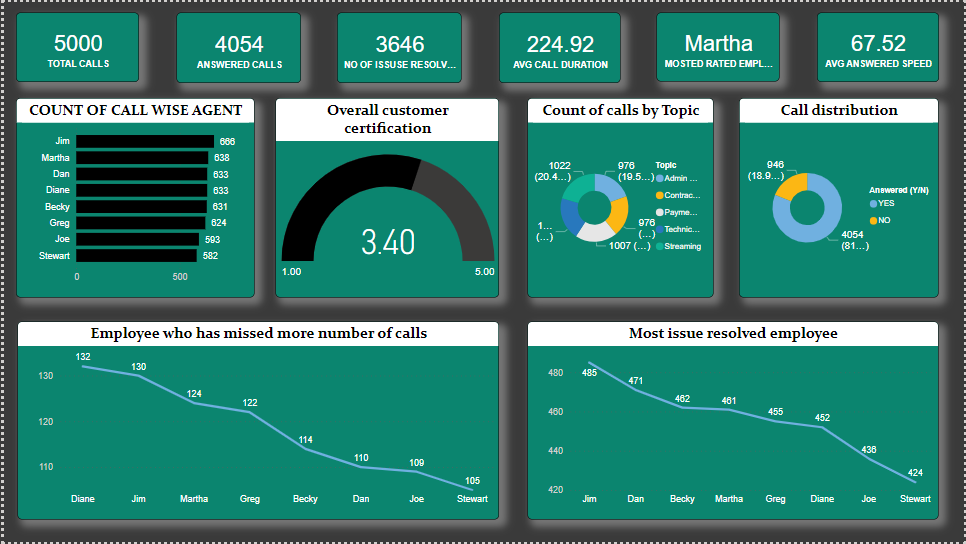

Layout of this report page (visuals, bound fields, positions):
{"tool":"powerbi","page":{"name":"Page 1","canvas":[1280,720],"ordinal":0},"visuals":[{"type":"card","fields":{"Values":["Call center data.Call Id"]},"box":[15.8,14,164.2,92.5],"z":0},{"type":"card","fields":{"Values":["Call center data.Answered (Y/N)"]},"box":[229.1,14,166,94],"z":1000},{"type":"card","fields":{"Values":["Call center data.Resolved"]},"box":[444.3,14,166,94],"z":2000},{"type":"card","fields":{"Values":["Call center data.Speed of answer in seconds"]},"box":[1083.7,14,162.3,92.8],"z":3000},{"type":"gauge","title":"Overall customer certification","fields":{"Y":["Call center data.Satisfaction rating"],"MinValue":["Call center data.Satisfaction rating"],"MaxValue":["Call center data.Satisfaction rating"]},"box":[362,128,298,266],"z":4000},{"type":"card","fields":{"Values":["Call center data.Custom"]},"box":[659.4,14,162,94],"z":5000},{"type":"barChart","title":"COUNT OF CALL WISE AGENT","fields":{"Category":["Call center data.Agent"],"Y":["Call center data.Call Id"]},"box":[16,128,318,266],"z":6000},{"type":"donutChart","title":"Count of calls by Topic","fields":{"Category":["Call center data.Topic"],"Y":["Call center data.Call Id"]},"box":[698,128,248,266],"z":7000},{"type":"lineChart","title":"Most issue resolved employee","fields":{"Category":["Call center data.Agent"],"Y":["Call center data.Resolved"]},"box":[698,426,548,264],"z":8000},{"type":"lineChart","title":"Employee who has missed more number of calls","fields":{"Category":["Call center data.Agent"],"Y":["Call center data.Answered (Y/N)"]},"box":[18,426,642,264],"z":9000},{"type":"donutChart","title":"Call distribution","fields":{"Category":["Call center data.Answered (Y/N)"],"Y":["Call center data.Call Id"]},"box":[980,128,266,266],"z":10000},{"type":"card","fields":{"Values":["Call center data.Agent"]},"box":[870.6,14,164,92],"z":11000}]}

Visuals, with their boxes in screenshot pixels (x1, y1, x2, y2), scaled from the page's 1280x720 canvas onto the 966x544 screenshot:
card - Call center data.Call Id: {"x1": 12, "y1": 11, "x2": 136, "y2": 80}
card - Call center data.Answered (Y/N): {"x1": 173, "y1": 11, "x2": 298, "y2": 82}
card - Call center data.Resolved: {"x1": 335, "y1": 11, "x2": 461, "y2": 82}
card - Call center data.Speed of answer in seconds: {"x1": 818, "y1": 11, "x2": 940, "y2": 81}
"Overall customer certification" gauge: {"x1": 273, "y1": 97, "x2": 498, "y2": 298}
card - Call center data.Custom: {"x1": 498, "y1": 11, "x2": 620, "y2": 82}
"COUNT OF CALL WISE AGENT" barChart: {"x1": 12, "y1": 97, "x2": 252, "y2": 298}
"Count of calls by Topic" donutChart: {"x1": 527, "y1": 97, "x2": 714, "y2": 298}
"Most issue resolved employee" lineChart: {"x1": 527, "y1": 322, "x2": 940, "y2": 521}
"Employee who has missed more number of calls" lineChart: {"x1": 14, "y1": 322, "x2": 498, "y2": 521}
"Call distribution" donutChart: {"x1": 740, "y1": 97, "x2": 940, "y2": 298}
card - Call center data.Agent: {"x1": 657, "y1": 11, "x2": 781, "y2": 80}
